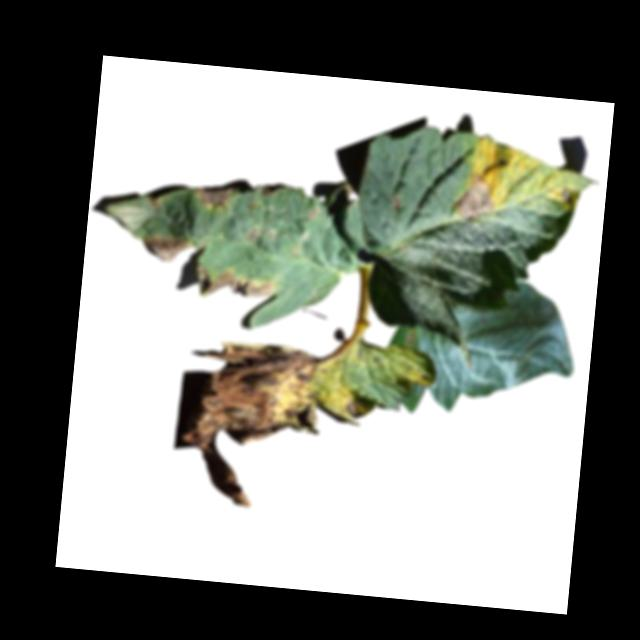Early_blight: (175, 336, 321, 514), (193, 264, 287, 306), (452, 166, 495, 222), (141, 231, 193, 266), (193, 184, 236, 212), (344, 393, 371, 420), (557, 182, 577, 205), (145, 196, 163, 212), (243, 225, 261, 241), (406, 329, 416, 344)
